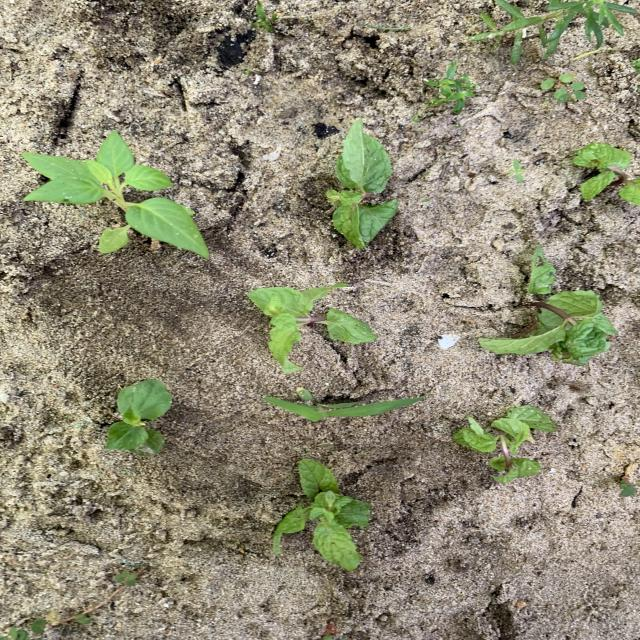crop: (477, 247, 616, 364), (248, 284, 376, 370), (272, 459, 370, 569), (326, 119, 398, 247), (452, 406, 555, 482), (108, 379, 171, 454), (572, 144, 639, 204)
weed: (24, 131, 208, 257), (471, 0, 637, 64), (0, 570, 138, 640), (264, 397, 423, 422), (425, 61, 476, 112), (540, 73, 585, 102), (600, 463, 635, 495), (253, 2, 277, 31), (508, 160, 525, 181), (362, 25, 411, 31)
